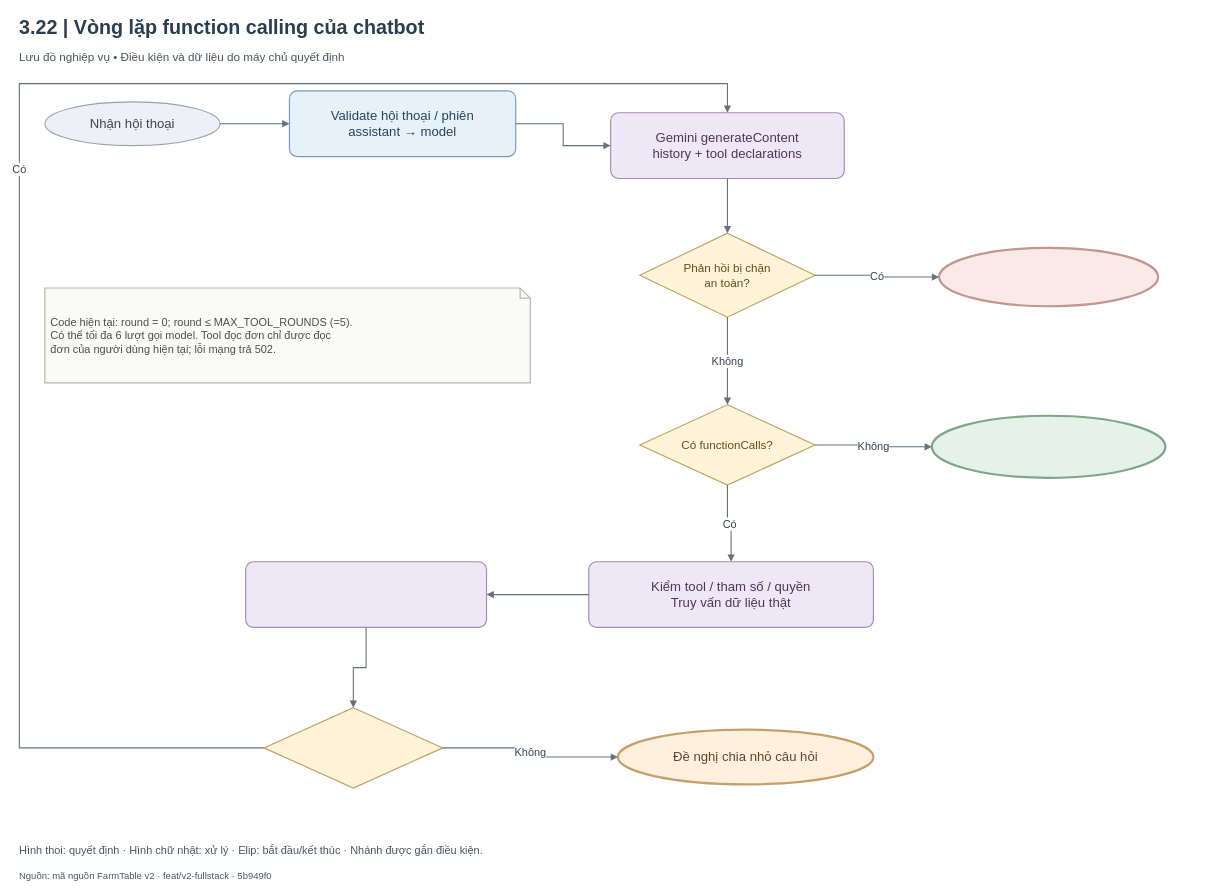
The diagram is 1229 pixels wide and 896 high, and some of its shapes have lost their labels. The box of each missing label's shape, as (x1, y1, x2, y2) in pixels:
Còn lượt lặp?: (263, 707, 443, 788)
Thêm functionResponse tăng round: (245, 561, 487, 628)
Trả lời lịch sự không trả dữ liệu nhạy cảm: (938, 246, 1159, 307)
Trả text + thẻ sản phẩm và công thức từ dữ liệu thật: (930, 414, 1166, 479)
